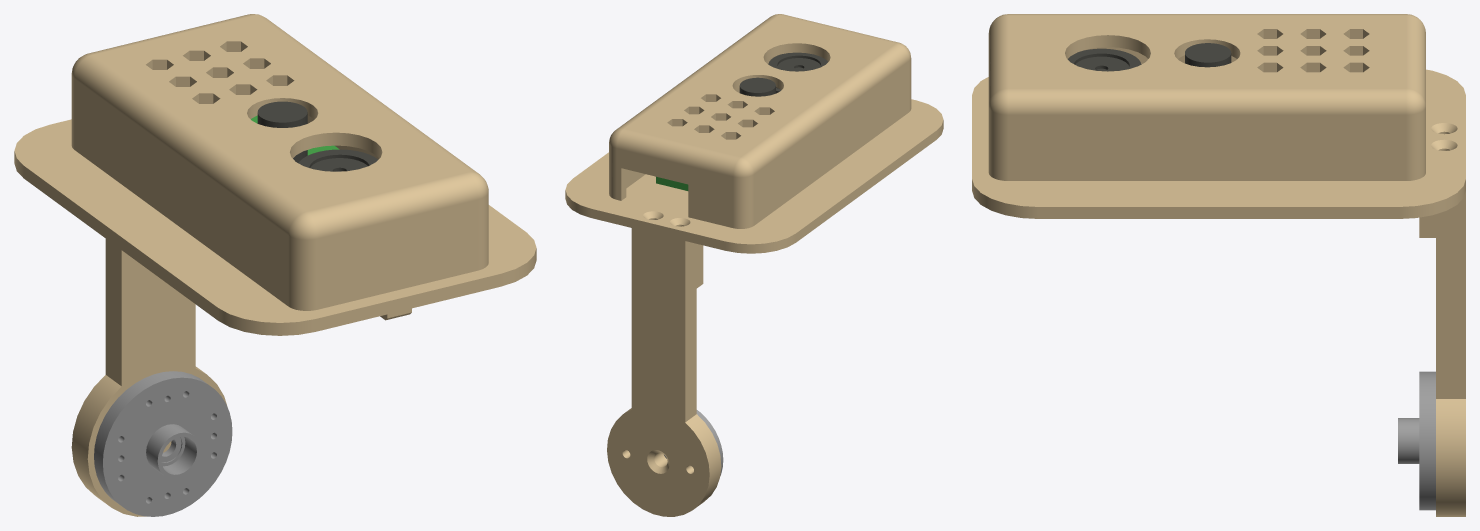
The model's file is bras_tourelle_guet.obj.
3 views of the same model, side by side, from view 1: azimuth 30°, elevation 25°; view 2: azimuth 150°, elevation 25°; view 3: azimuth 270°, elevation 25° (orthographic). The views are drawn at different scales.
Parts seen in each view (by area): view 1: Corps1:1, plateforme_logi, Corps3, bras_tete_cam, camera, micro; view 2: Corps1:1, bras_tete_cam, plateforme_logi, camera, micro; view 3: Corps1:1, plateforme_logi, bras_tete_cam, Corps3, camera, micro.
Part boxes in pixels (x1,y1,x2,y2): Corps1:1: (71,14,488,320); plateforme_logi: (14,119,536,335); Corps3: (94,371,232,516); bras_tete_cam: (71,239,227,516); camera: (298,149,377,171); micro: (257,101,307,163); Corps1:1: (609,14,911,228); bras_tete_cam: (607,228,721,516); plateforme_logi: (565,99,943,253); camera: (768,52,827,93); micro: (739,77,775,96); Corps1:1: (988,14,1425,180); plateforme_logi: (972,69,1465,218); bras_tete_cam: (1419,191,1465,516); Corps3: (1398,371,1435,510); camera: (1067,48,1141,71); micro: (1185,43,1231,67).
Bounding box in the file's own units: 5 × 7.62 × 7.45.
